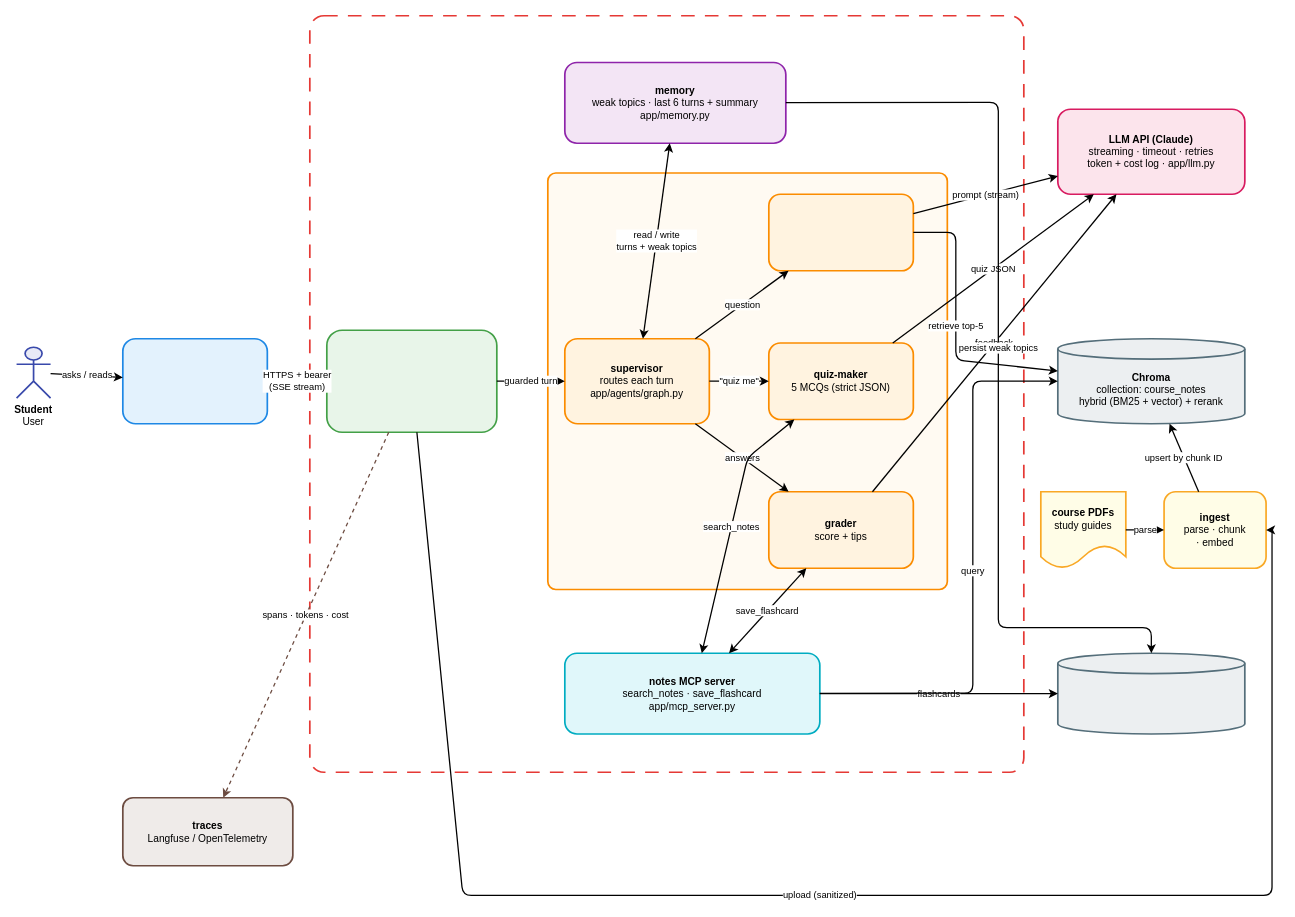
Some shapes in this 1295 by 917 pixel diagram are drawn without their labels. Here are the shapes that lost their labels. From the top down, the box of each, then its label:
(768, 193, 914, 271): tutor explains, cites [file p.N]
(122, 337, 268, 424): Chat UI Streamlit · ui/app.py
(326, 329, 497, 433): FastAPI backend auth · guards · rate limit app/api/main.py
(309, 14, 1024, 773): trust boundary (backend · agents · tools)
(547, 172, 948, 590): agents (LangGraph)
(1057, 652, 1245, 734): SQLite progress + cards weak_topics · flashcards
